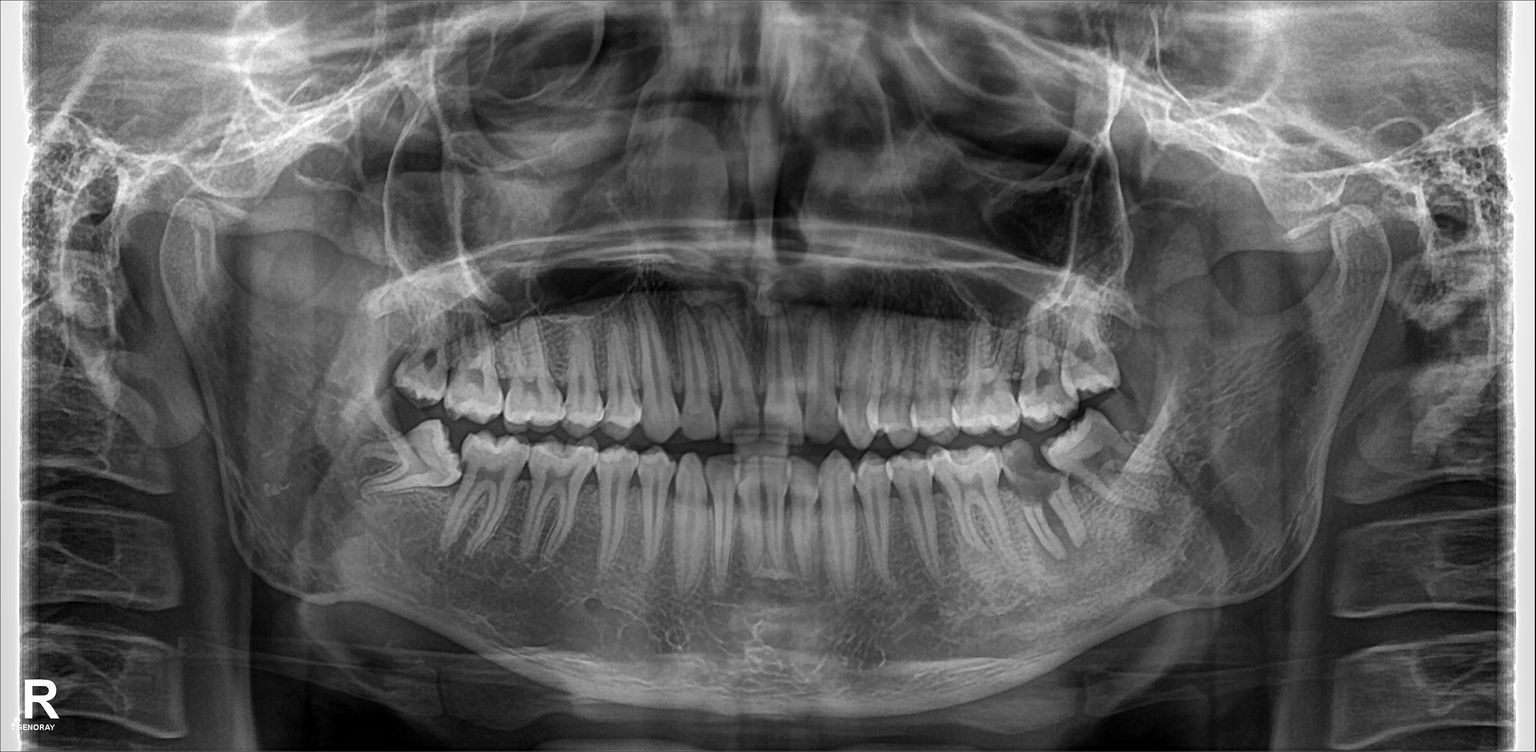Dental Caries: (1006, 460, 1059, 502), (1089, 445, 1132, 475)
Impacted Third Molar: (1061, 426, 1164, 502), (372, 423, 463, 502)
Periapical Lesion: (1009, 452, 1083, 575)
